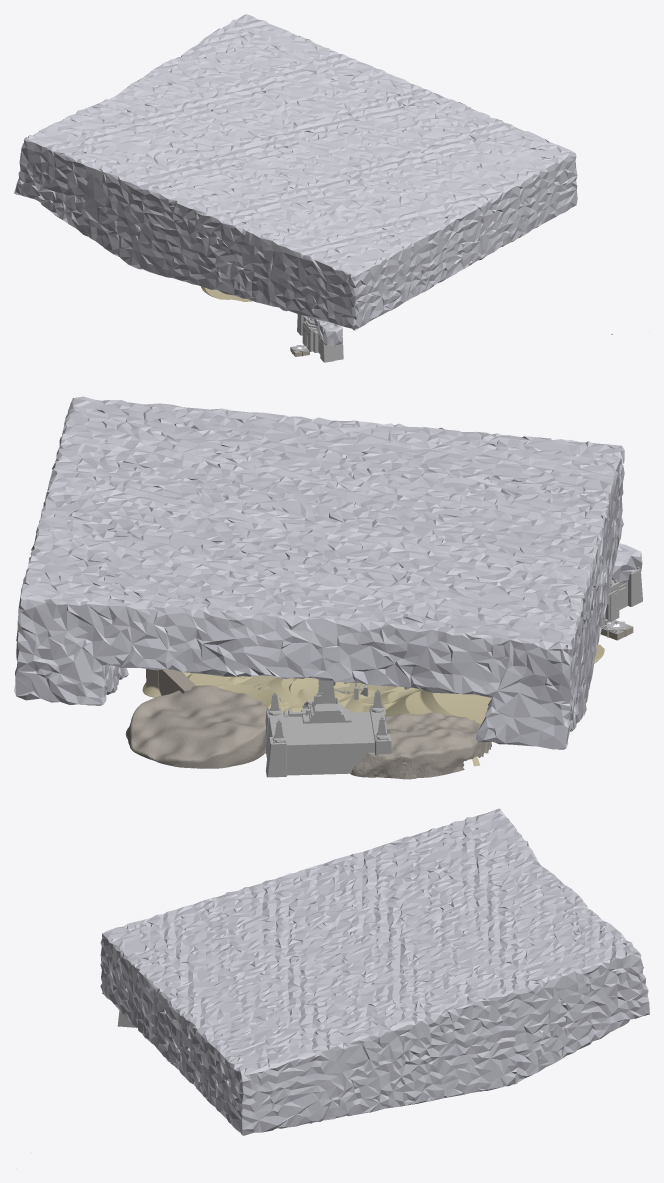
File: BstBaked.glb
The picture shows the model from 3 angles, top to bottom: view 1: azimuth 30°, elevation 25°; view 2: azimuth 150°, elevation 25°; view 3: azimuth 270°, elevation 25°; orthographic projection. The views are drawn at different scales.
Parts seen in each view (by area): view 1: BstBaked_cloud, BstBaked_DuskFinalTempleCheap_01; view 2: BstBaked_cloud, BstBaked_terrain, BstBaked_DuskFinalTemple_01, BstBaked_DuskFinalTempleCheap_01; view 3: BstBaked_cloud.
Part boxes in pixels (x1=…): BstBaked_cloud: x1=14, y1=14, x2=577, y2=345; BstBaked_DuskFinalTempleCheap_01: x1=297, y1=314, x2=343, y2=362; BstBaked_cloud: x1=14, y1=396, x2=642, y2=749; BstBaked_terrain: x1=125, y1=619, x2=633, y2=779; BstBaked_DuskFinalTemple_01: x1=265, y1=679, x2=392, y2=777; BstBaked_DuskFinalTempleCheap_01: x1=602, y1=566, x2=642, y2=626; BstBaked_cloud: x1=100, y1=808, x2=649, y2=1135.
Bounding box in the file's own units: 1428 × 486 × 1634.
